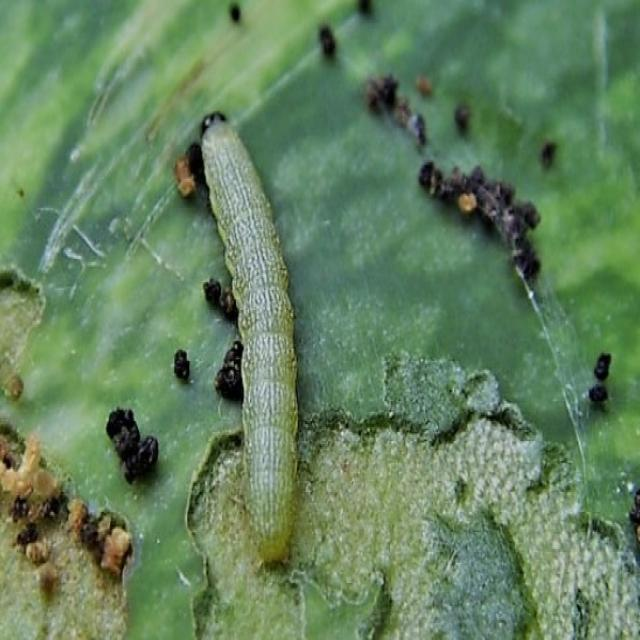armyworm: (198, 108, 300, 566)
